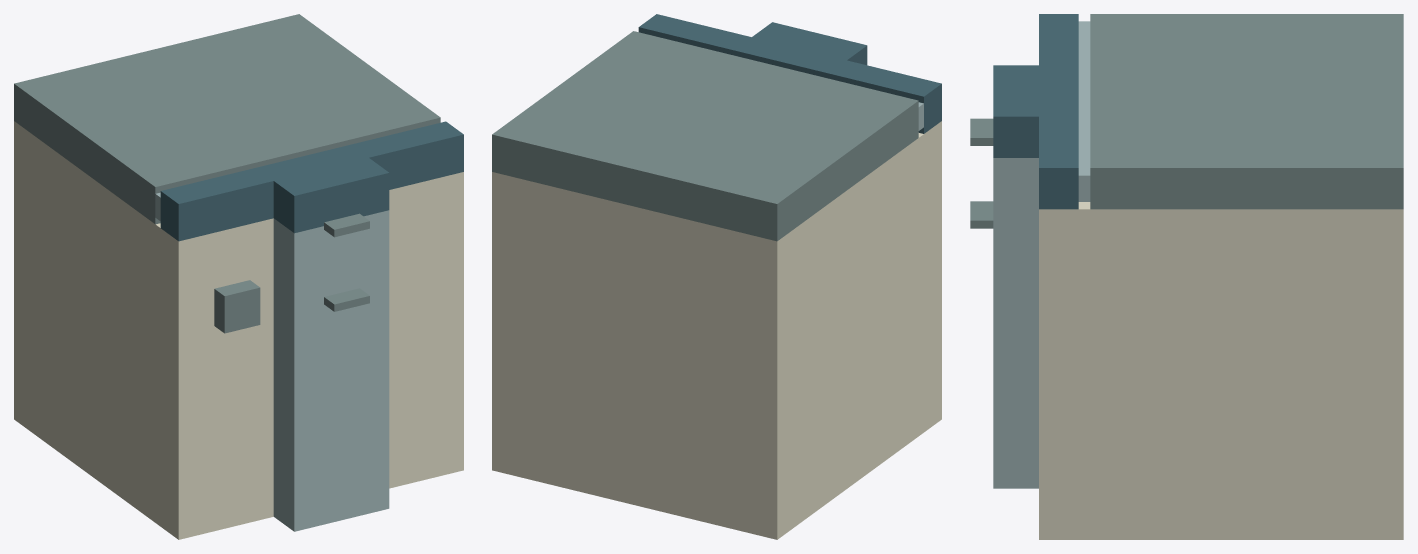
Rendered from FloorBlock-VerticalOut.002.fbx.
3 renders of one model, left to right at view 1: azimuth 30°, elevation 25°; view 2: azimuth 150°, elevation 25°; view 3: azimuth 270°, elevation 25°, orthographic. The views are drawn at different scales.
Visible parts, largest first — view 1: FloorBlock-VerticalOut.002; view 2: FloorBlock-VerticalOut.002; view 3: FloorBlock-VerticalOut.002.
Boxes of the visible parts, <box> form: FloorBlock-VerticalOut.002: <box>14,14,463,539</box>; FloorBlock-VerticalOut.002: <box>492,14,941,539</box>; FloorBlock-VerticalOut.002: <box>970,14,1403,539</box>.
Size of the model in its own units: 800 by 900 by 950.
